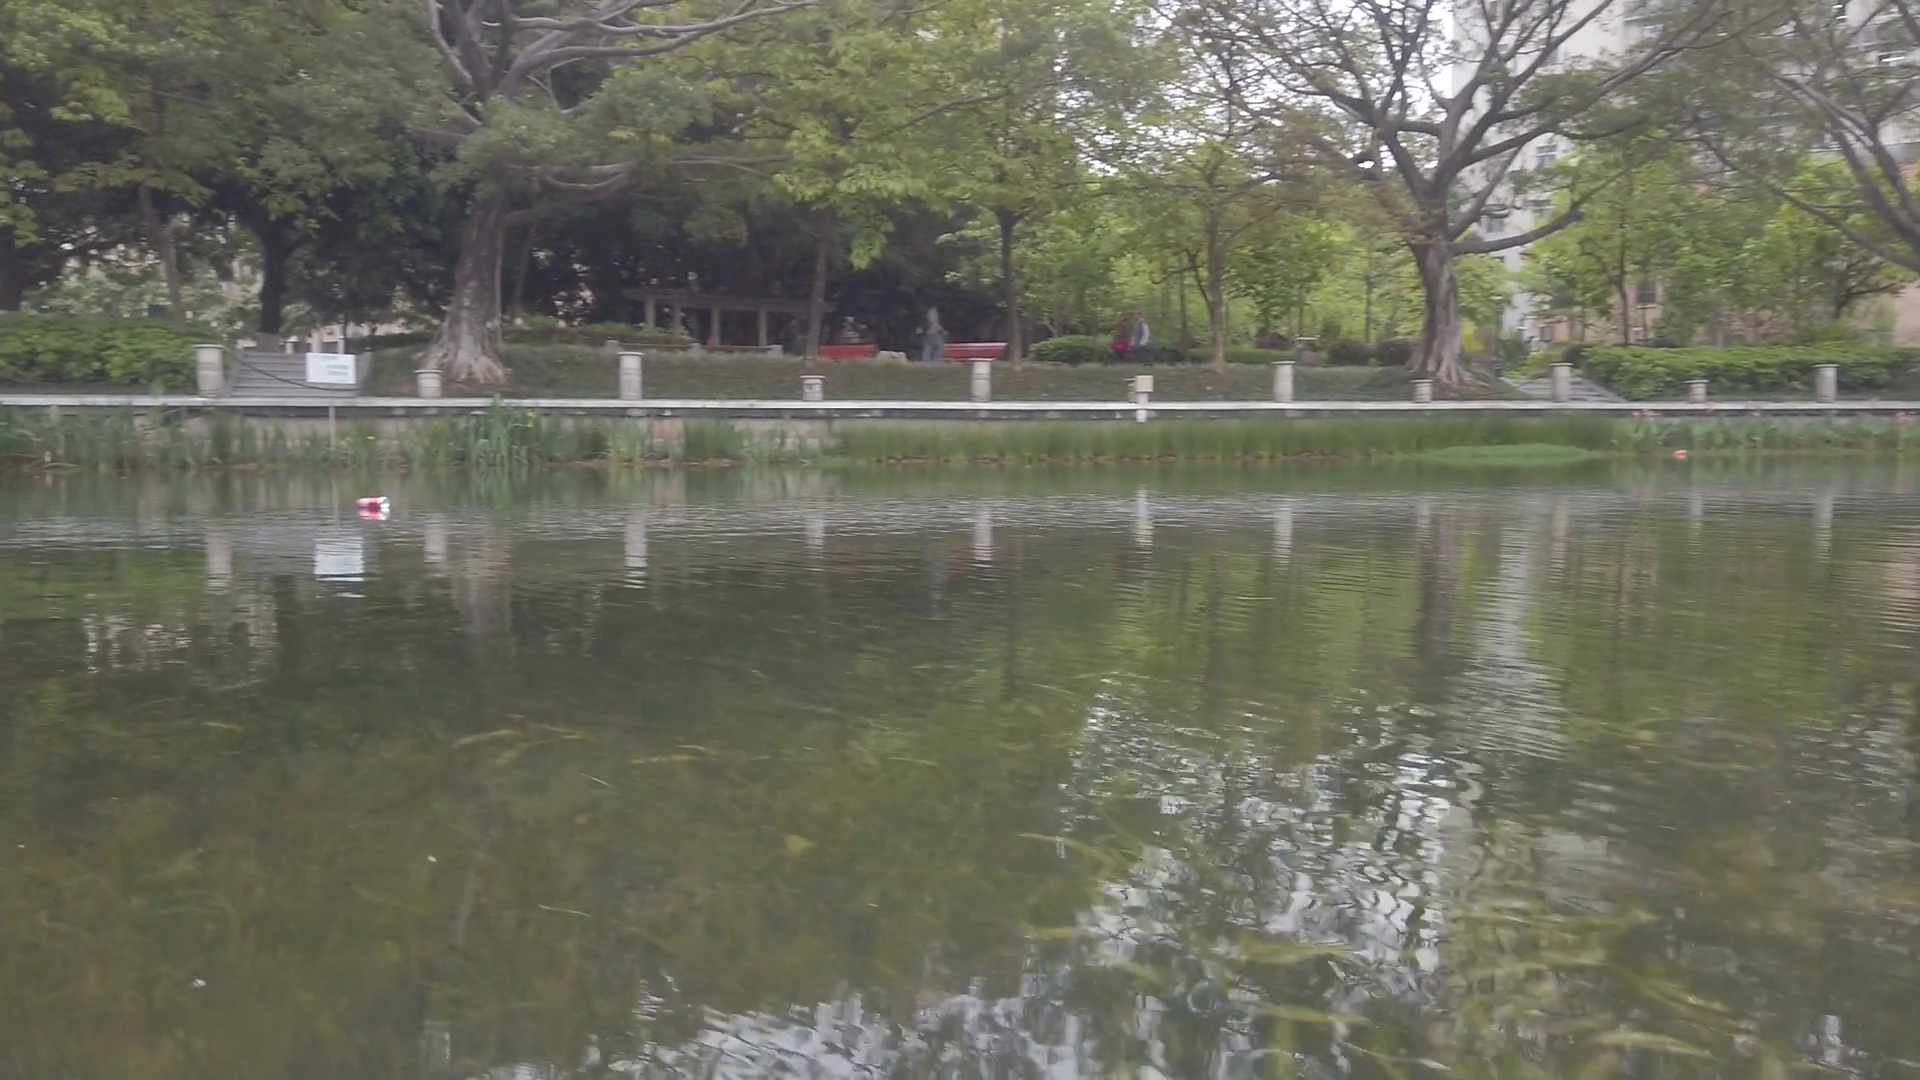bottle: (355, 497, 392, 512), (1676, 448, 1689, 458)
